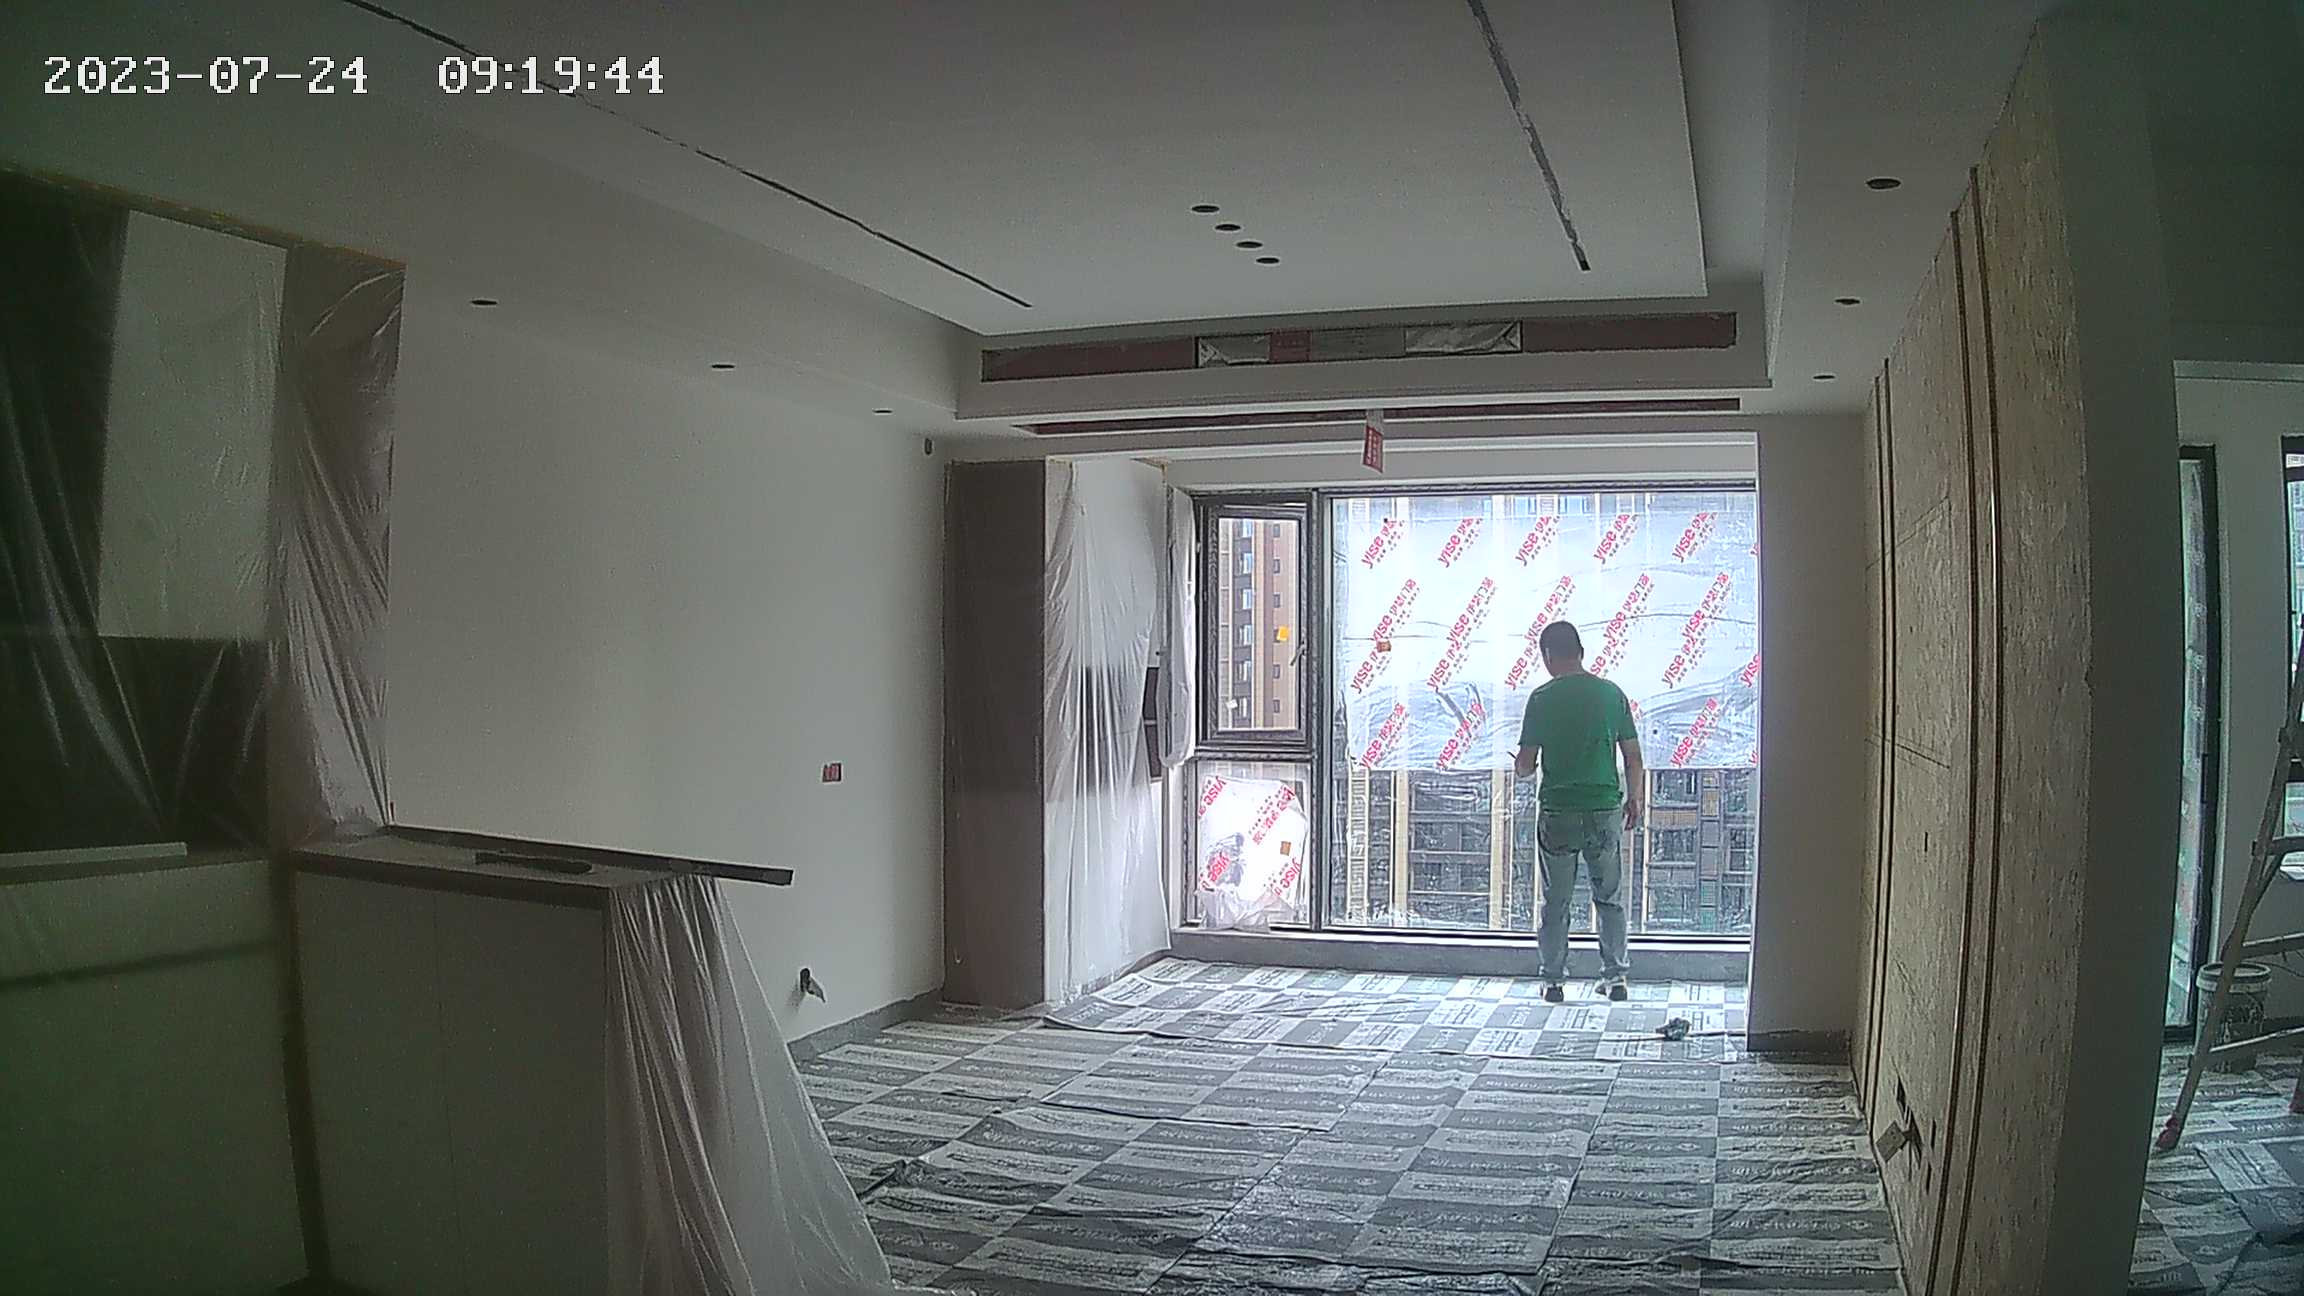people: (1517, 620, 1649, 997)
window: (1174, 492, 1759, 947)
